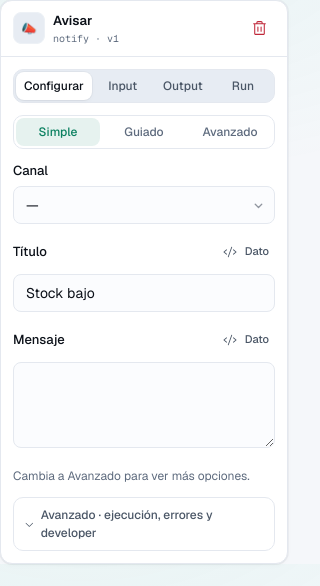
it: NodeConfigPanel tabs › Input muestra la entrada registrada del run
Click the tab with test id "wf-tab-input".
click(123, 86)  # box top-left (94, 72), bottom-right (152, 100)
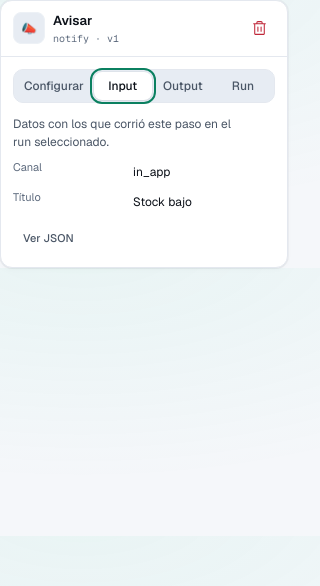
expect the element with test id "wf-node-input" shows "Canal": met, box top-left (13, 160), bottom-right (42, 174)
expect the element with test id "wf-node-input" shows "Stock bajo": met, box top-left (133, 194), bottom-right (192, 210)
